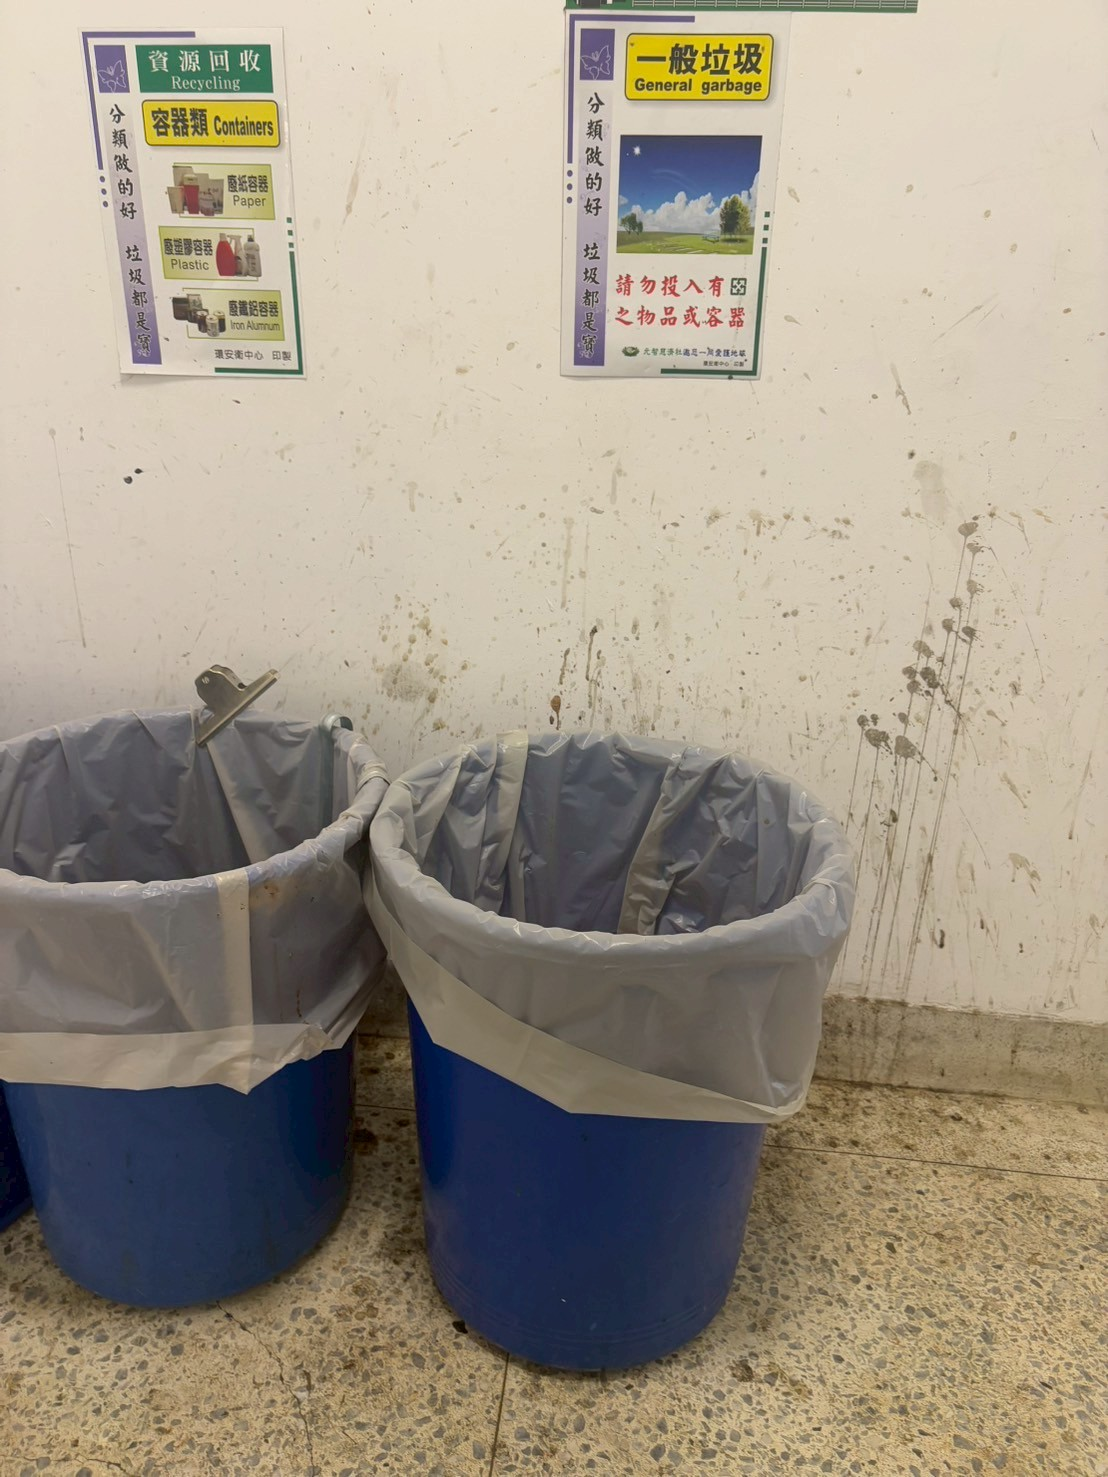normal_bin: (354, 713, 867, 1396)
